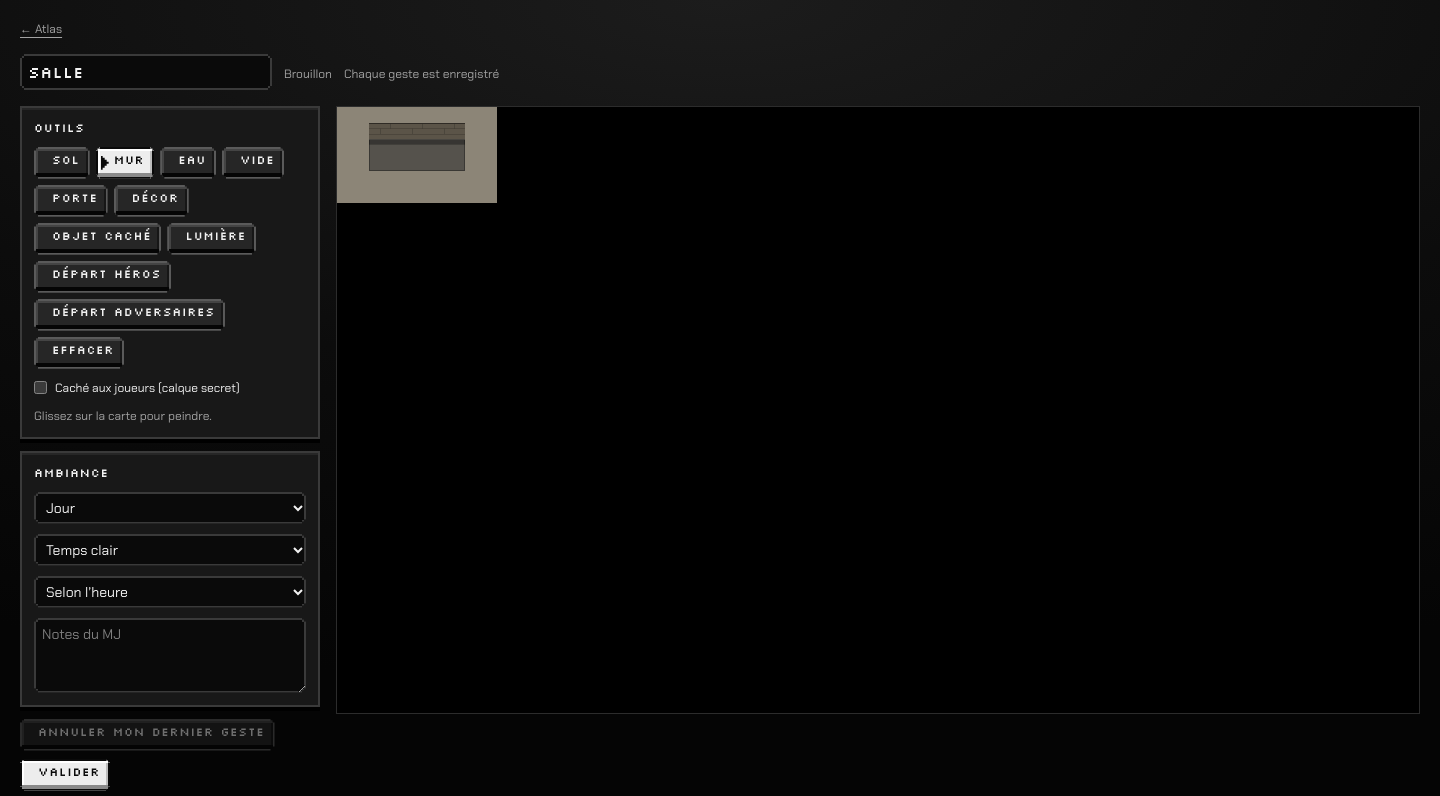
it: MapEditorPage › reloads the fresh map and replays a gesture refused as stale, and hears Claude live
This screenshot has width=1440, height=796.
Press the mouse on the picture named "Carte : Salle" at point(417, 155), box [337,107,497,203]
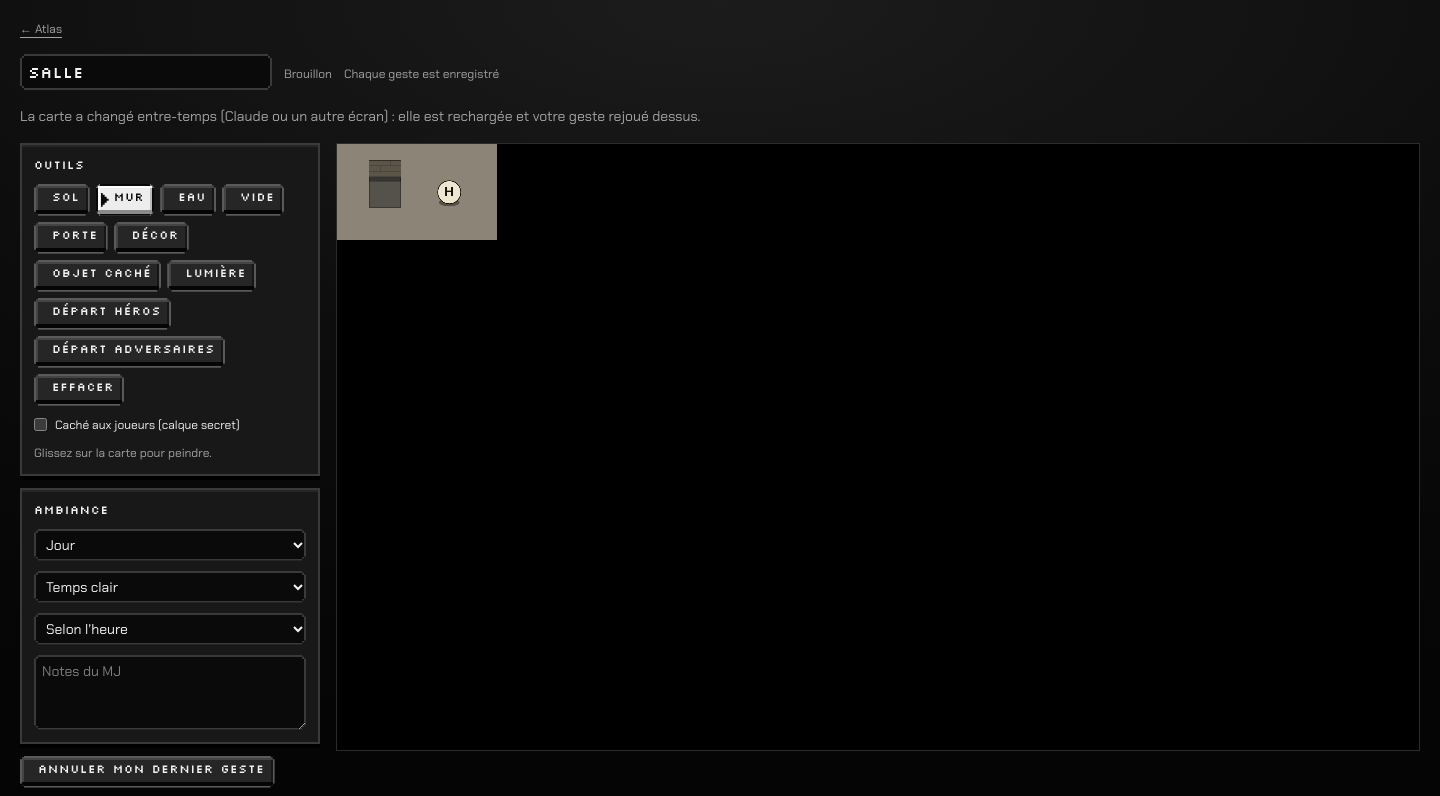
Check: the text "votre geste rejoué" is shown, box [20,107,700,125]
